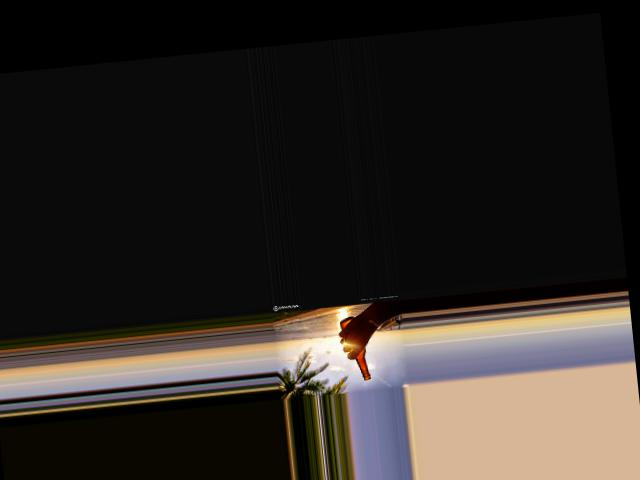beer: (340, 314, 372, 381)
